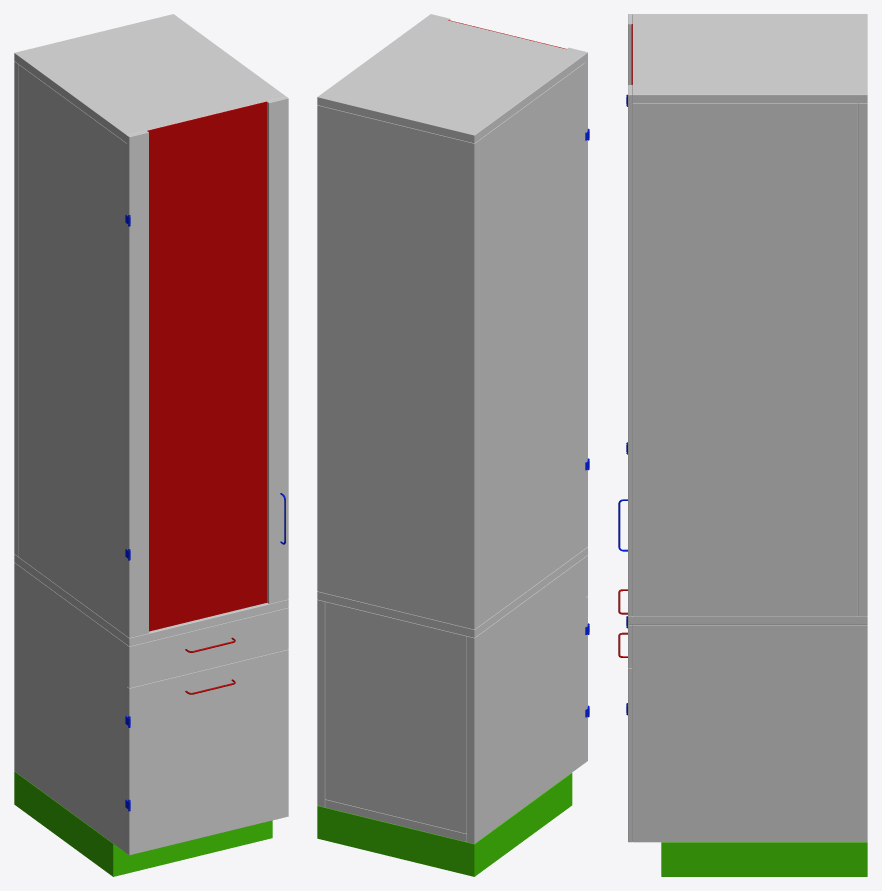
File: Cabinet01.fbx
The picture shows the model from 3 angles, left to right: view 1: azimuth 30°, elevation 25°; view 2: azimuth 150°, elevation 25°; view 3: azimuth 270°, elevation 25°; orthographic projection. The views are drawn at different scales.
Parts seen in each view (by area): view 1: Cabinet01, CabinetDoor, Drawer02, Drawer01; view 2: Cabinet01, CabinetDoor; view 3: Cabinet01, CabinetDoor, Drawer02.
Part boxes in pixels (x1,y1,x2,y2): Cabinet01: [14, 14, 288, 876]; CabinetDoor: [127, 96, 288, 637]; Drawer02: [127, 649, 288, 855]; Drawer01: [127, 607, 288, 688]; Cabinet01: [317, 15, 589, 876]; CabinetDoor: [429, 14, 587, 547]; Cabinet01: [626, 14, 867, 876]; CabinetDoor: [618, 14, 632, 616]; Drawer02: [618, 632, 632, 842].
Size of the model in its own units: 50.35 by 65 by 225.
